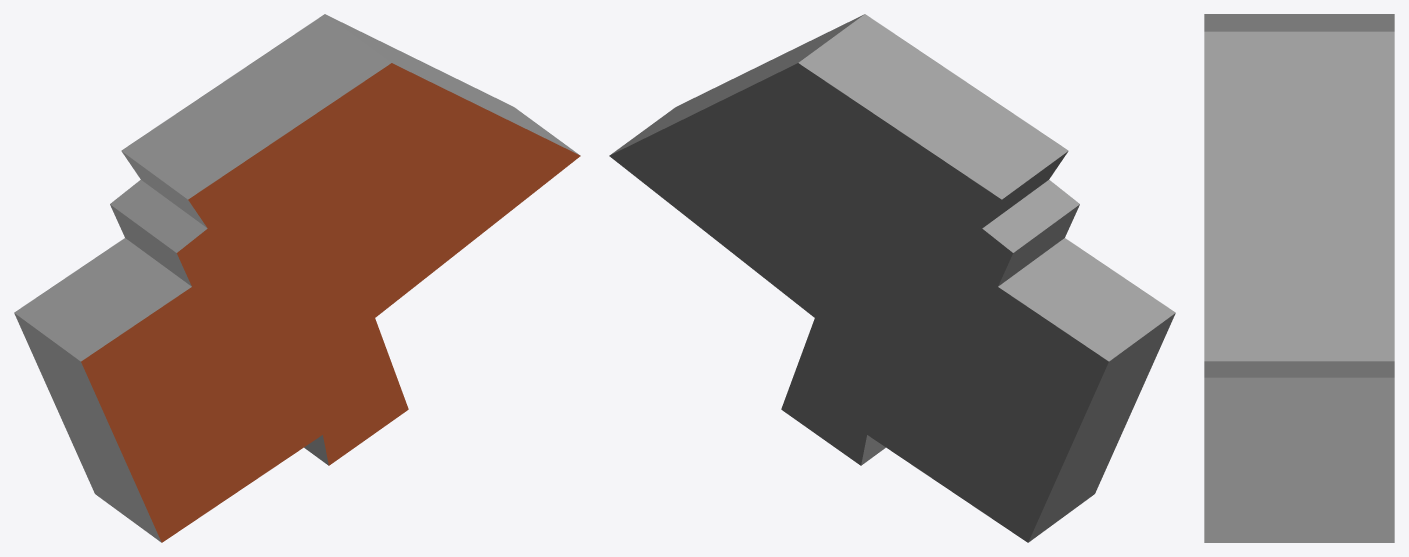
File: construction_1821_assumed_A_Casa_h6m.obj
3 views of the same model, side by side, from view 1: azimuth 30°, elevation 25°; view 2: azimuth 150°, elevation 25°; view 3: azimuth 270°, elevation 25° (orthographic). The views are drawn at different scales.
Visible parts, largest first — view 1: construction_1821_assumed_A_Casa; view 2: construction_1821_assumed_A_Casa; view 3: construction_1821_assumed_A_Casa.
Boxes of the visible parts, x1,y1,x2,y2 form: construction_1821_assumed_A_Casa: (14, 14, 580, 542); construction_1821_assumed_A_Casa: (609, 14, 1175, 542); construction_1821_assumed_A_Casa: (1204, 14, 1394, 542).
Bounding box in the file's own units: 25.89 × 20.98 × 6.
